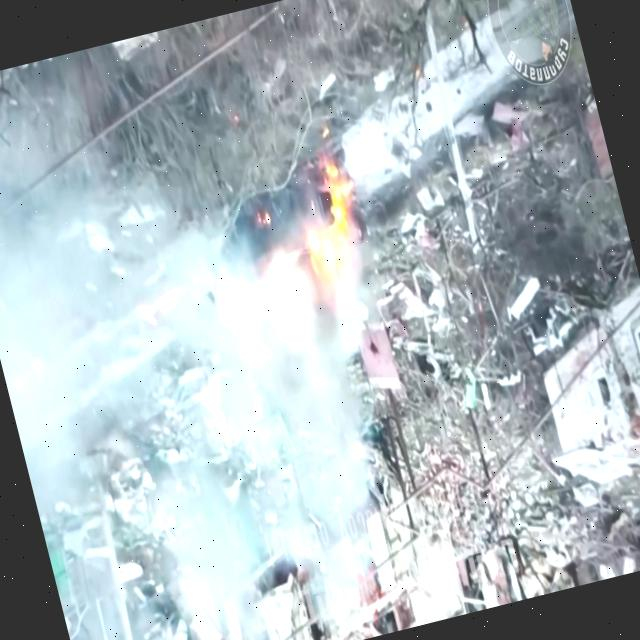Destroyed: (193, 172, 384, 347)
